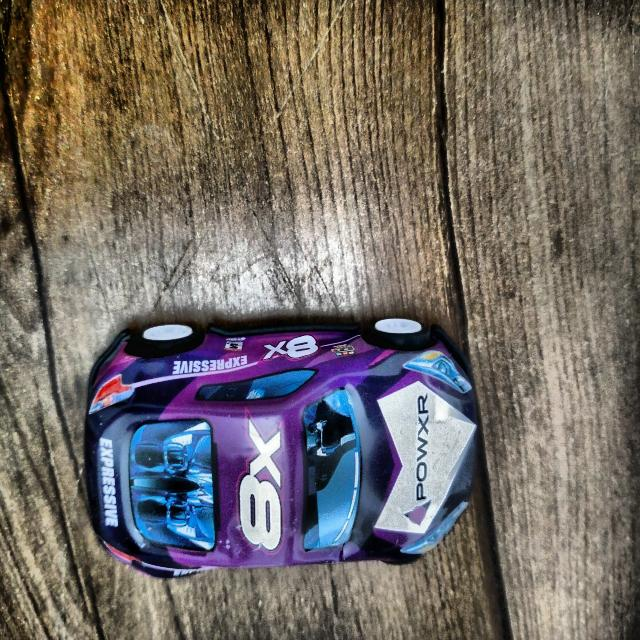Car: (87, 316, 479, 580)
